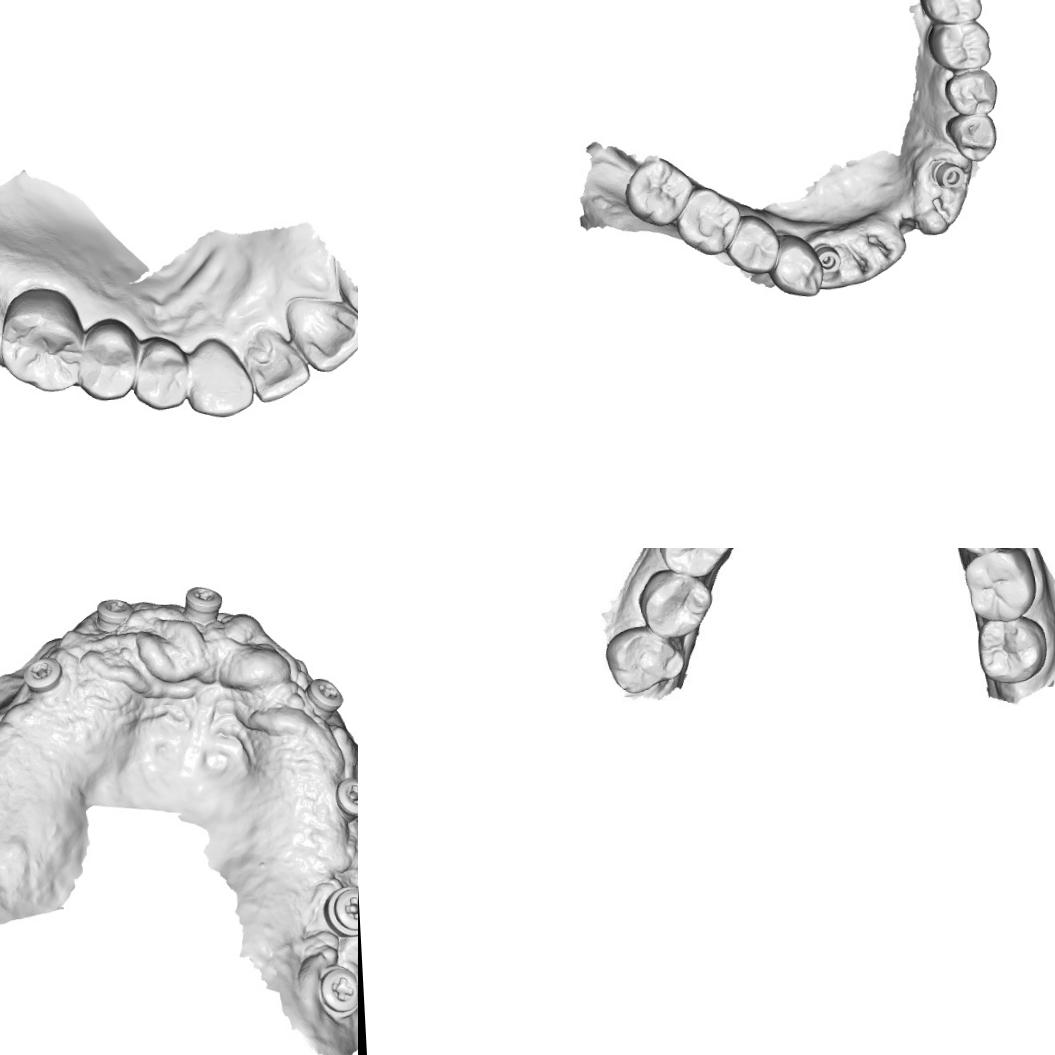canine: (184, 337, 256, 420)
implant: (928, 157, 966, 190), (814, 243, 842, 274)
implant_plus: (315, 963, 358, 1016), (321, 883, 358, 937), (180, 580, 225, 624), (19, 652, 64, 694), (302, 673, 345, 713), (94, 593, 134, 626), (333, 775, 358, 816)
incisor: (281, 292, 358, 375), (246, 331, 312, 404)
molar: (0, 283, 85, 395), (600, 621, 690, 697), (637, 564, 715, 642), (621, 151, 697, 228), (962, 548, 1040, 623), (974, 614, 1048, 684), (673, 184, 742, 258), (925, 20, 992, 72), (656, 548, 732, 583), (915, 0, 984, 24)
premolar: (74, 316, 142, 404), (130, 336, 191, 412), (766, 230, 824, 299), (724, 212, 782, 276), (944, 110, 998, 163), (942, 66, 998, 116)
